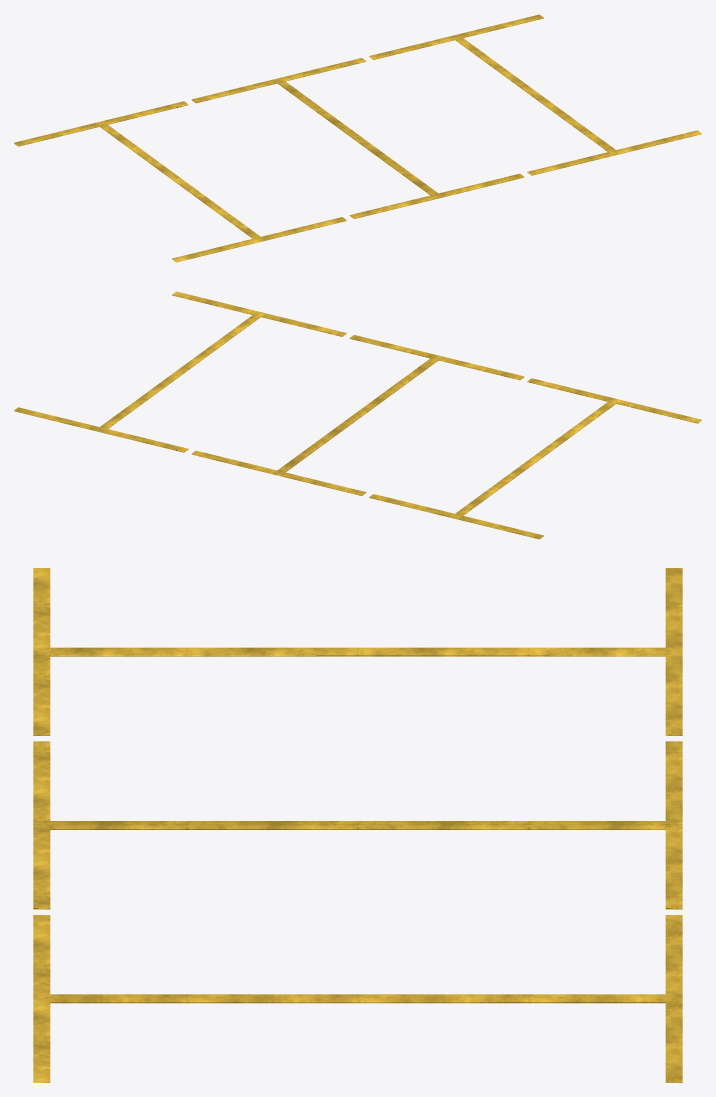
Rendered from MKT_TricycleWaitingBay_Markings.obj.
The picture shows the model from 3 angles, top to bottom: view 1: azimuth 30°, elevation 25°; view 2: azimuth 150°, elevation 25°; view 3: azimuth 270°, elevation 25°; orthographic projection. The views are drawn at different scales.
Visible parts, largest first — view 1: MKT_TricycleWaitingBay_Markings; view 2: MKT_TricycleWaitingBay_Markings; view 3: MKT_TricycleWaitingBay_Markings.
Part boxes in pixels (<box>): MKT_TricycleWaitingBay_Markings: <box>14,14,701,262</box>; MKT_TricycleWaitingBay_Markings: <box>14,291,701,539</box>; MKT_TricycleWaitingBay_Markings: <box>33,568,682,1082</box>.
Bounding box in the file's own units: 7.1 × 0.012 × 3.8.
Materials: 1 (1 with a texture image).
